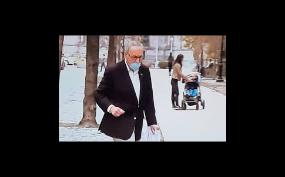mask_weared_incorrect: (129, 53, 144, 71)
